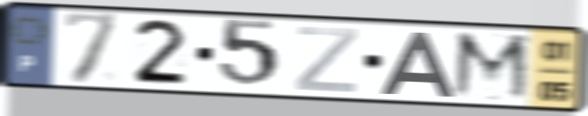2: (130, 17, 192, 88)
5: (217, 18, 284, 94)
7: (61, 9, 124, 88)
A: (377, 30, 458, 99)
M: (448, 29, 534, 105)
Z: (292, 24, 361, 95)
